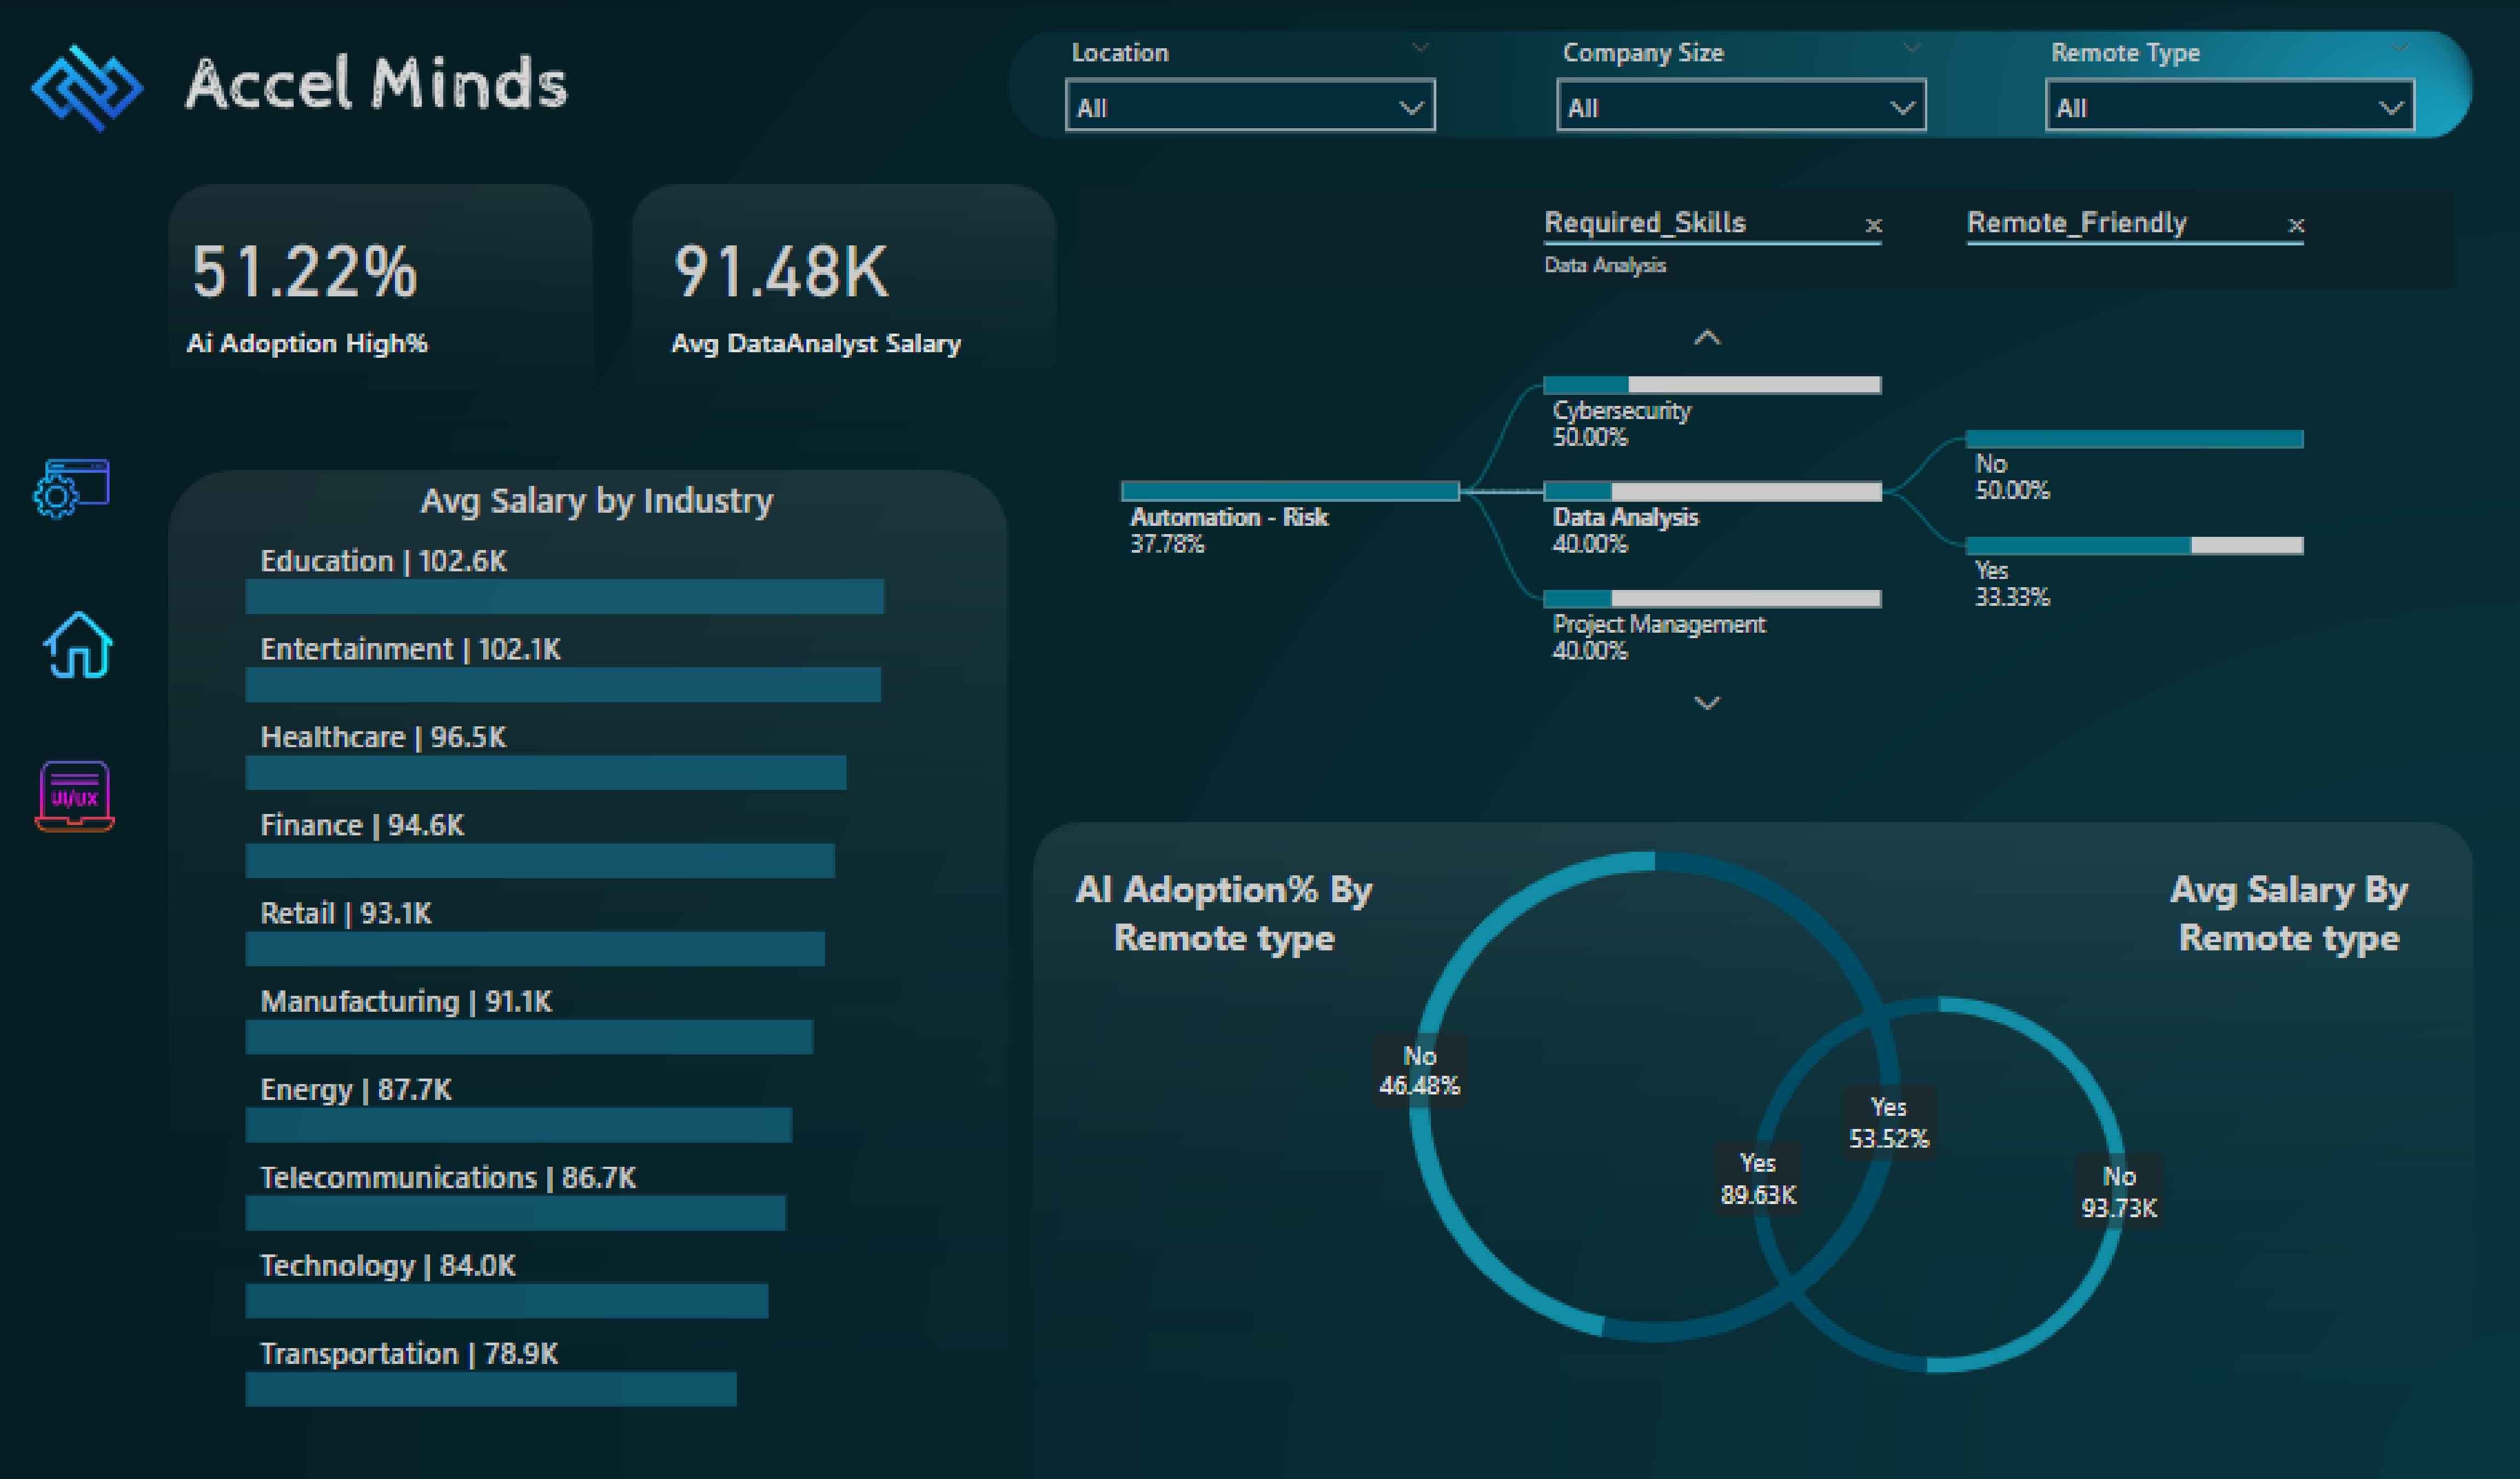

Layout of this report page (visuals, bound fields, positions):
{"tool":"powerbi","page":{"name":"Data Analyst","canvas":[1471,864],"ordinal":1},"visuals":[{"type":"slicer","fields":{"Values":["ai_job_market_insights.Remote_Friendly"]},"box":[1177.8,13.6,233.8,71.4],"z":0,"group":"g2"},{"type":"clusteredBarChart","title":"Avg Salary by Industry","fields":{"Category":["ai_job_market_insights.Industry"],"Y":["Measure - Data analysis.Placeholder","Measure.Avg - DataAnalyst Salary"]},"box":[137.8,275.5,416.7,546],"z":0},{"type":"slicer","fields":{"Values":["ai_job_market_insights.Company_Size"]},"box":[894.3,13.6,233.8,71.4],"z":1000,"group":"g2"},{"type":"cardVisual","fields":{"Data":["Measure - Data analysis.Ai Adoption High%","Measure - Data analysis.Avg - DataAnalyst Salary"]},"box":[91.8,105.4,564.7,129.3],"z":1000},{"type":"donutChart","title":"Ai Adoption% by Remote_Type","fields":{"Category":["ai_job_market_insights.Remote_Friendly"],"Y":["Measure.Ai Adoption High%"]},"box":[693.9,432,532.3,408.2],"z":1000,"group":"g1"},{"type":"slicer","fields":{"Values":["ai_job_market_insights.Location"]},"box":[608.9,13.6,233.8,71.4],"z":2000,"group":"g2"},{"type":"group","id":"g1","title":"Group 1","box":[608.9,432,819.8,408.2],"z":2000},{"type":"decompositionTreeVisual","fields":{"Analyze":["Measure - Data analysis.Automation - Risk"],"ExplainBy":["ai_job_market_insights.Required_Skills","ai_job_market_insights.Remote_Friendly"]},"box":[620.8,105.4,807.9,326.6],"z":3000},{"type":"actionButton","box":[11.9,258.5,61.2,45.9],"z":4000},{"type":"textbox","box":[608.9,494.9,202.4,78.2],"z":4000,"group":"g1"},{"type":"actionButton","box":[20.4,353.8,51,45.9],"z":5000},{"type":"textbox","box":[1226.3,494.9,202.4,78.2],"z":5000,"group":"g1"},{"type":"actionButton","box":[17,438.8,51,45.9],"z":6000},{"type":"donutChart","fields":{"Y":["Measure - Data analysis.Avg - DataAnalyst Salary"],"Category":["ai_job_market_insights.Remote_Friendly"]},"box":[903.1,534,443.9,306.1],"z":6000,"group":"g1"},{"type":"group","id":"g2","title":"Group 2","box":[608.9,13.6,802.8,71.4],"z":7003}]}

Visuals, with their boxes in screenshot pixels (x1, y1, x2, y2), scaled from the page's 1471x864 canvas onto the 2520x1479 screenshot:
slicer - ai_job_market_insights.Remote_Friendly: l=2018, t=23, r=2418, b=146
"Avg Salary by Industry" clusteredBarChart: l=236, t=472, r=950, b=1406
slicer - ai_job_market_insights.Company_Size: l=1532, t=23, r=1933, b=146
cardVisual - Measure - Data analysis.Ai Adoption High% x Measure - Data analysis.Avg - DataAnalyst Salary: l=157, t=180, r=1125, b=402
"Ai Adoption% by Remote_Type" donutChart: l=1189, t=739, r=2100, b=1438
slicer - ai_job_market_insights.Location: l=1043, t=23, r=1444, b=146
"Group 1" group: l=1043, t=739, r=2448, b=1438
decompositionTreeVisual - Measure - Data analysis.Automation - Risk x ai_job_market_insights.Required_Skills: l=1063, t=180, r=2448, b=739
actionButton: l=20, t=443, r=125, b=521
textbox: l=1043, t=847, r=1390, b=981
actionButton: l=35, t=606, r=122, b=684
textbox: l=2101, t=847, r=2448, b=981
actionButton: l=29, t=751, r=117, b=830
donutChart - Measure - Data analysis.Avg - DataAnalyst Salary x ai_job_market_insights.Remote_Friendly: l=1547, t=914, r=2307, b=1438
"Group 2" group: l=1043, t=23, r=2419, b=146
